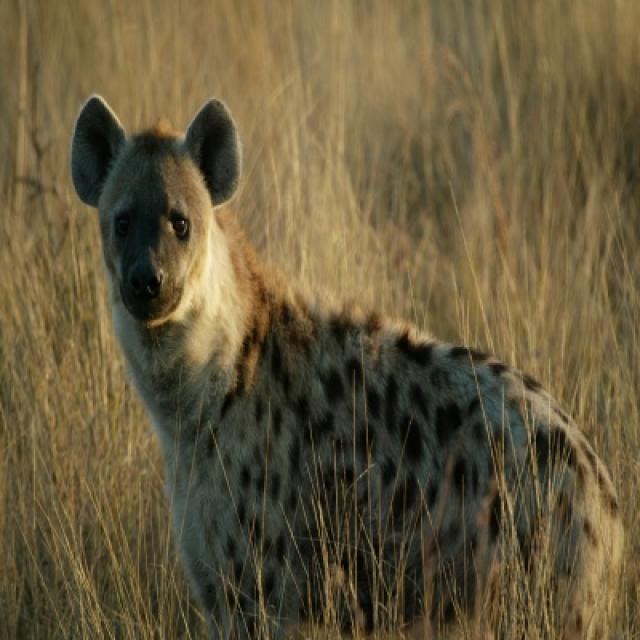hyena: (70, 96, 634, 638)
